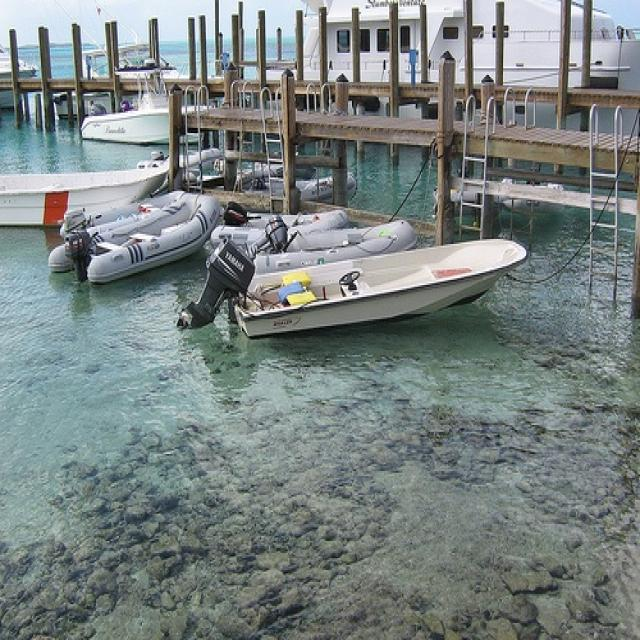boat: (289, 0, 639, 135), (177, 234, 530, 338), (50, 188, 220, 278), (208, 218, 418, 276), (0, 157, 172, 225), (78, 78, 168, 142), (78, 41, 178, 80), (0, 44, 40, 108)
